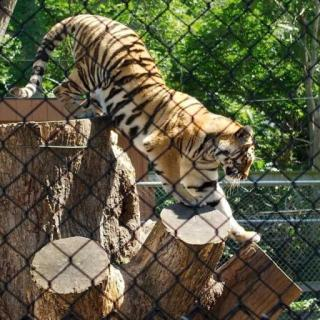Tiger: (25, 6, 258, 215)
